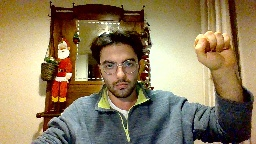Pugno: (191, 28, 239, 70)
